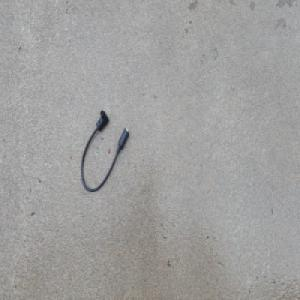Wire: (79, 109, 129, 194)
